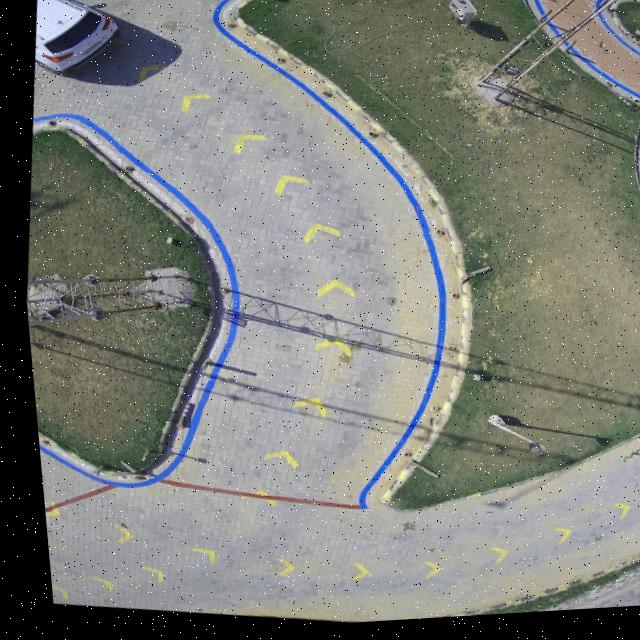car: (34, 0, 117, 73)
